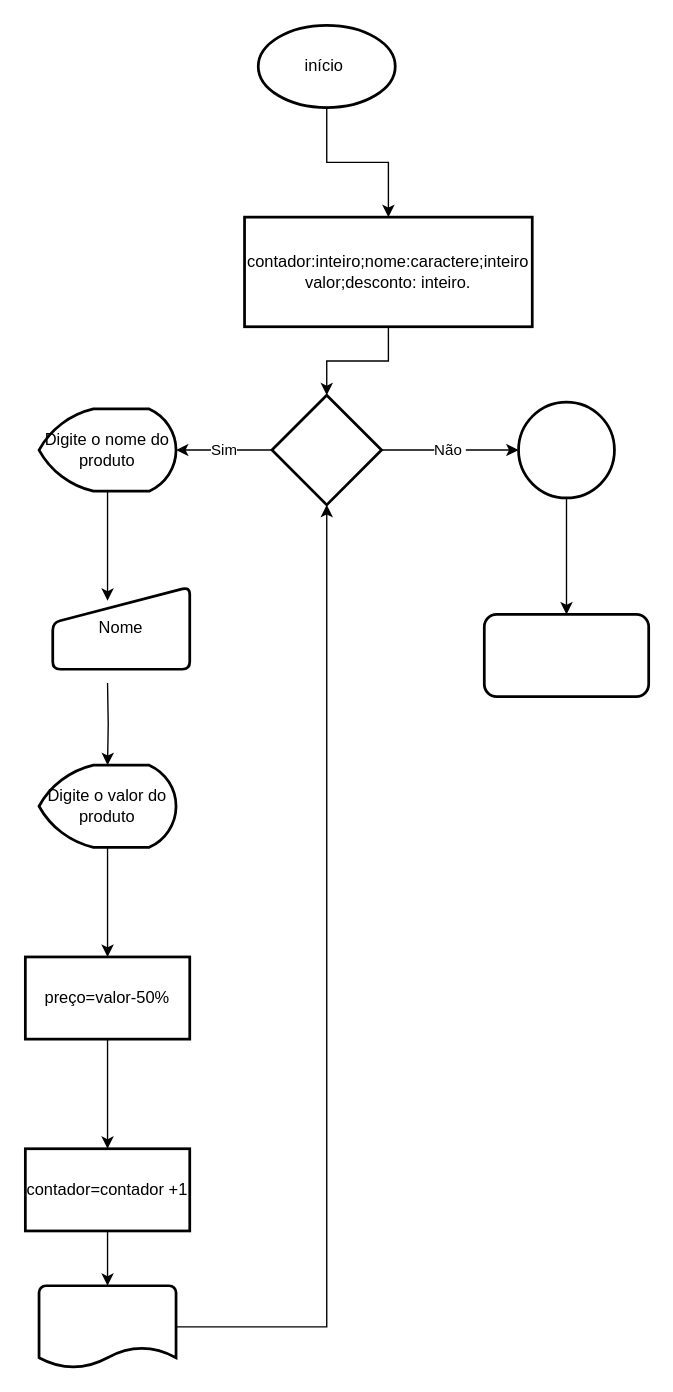
Some shapes in this 673 by 1392 pixel diagram are drawn without their labels. The centre of each missing label's shape, as x and y in pixels:
"Fim" goes at (565,654).
"Nome+valor com desconto" goes at (107,1326).
"x<10" goes at (326,449).
